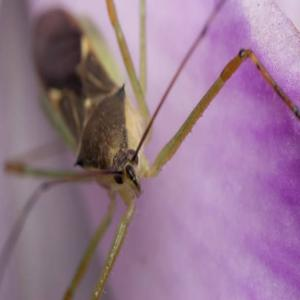locust: (19, 1, 234, 219)
